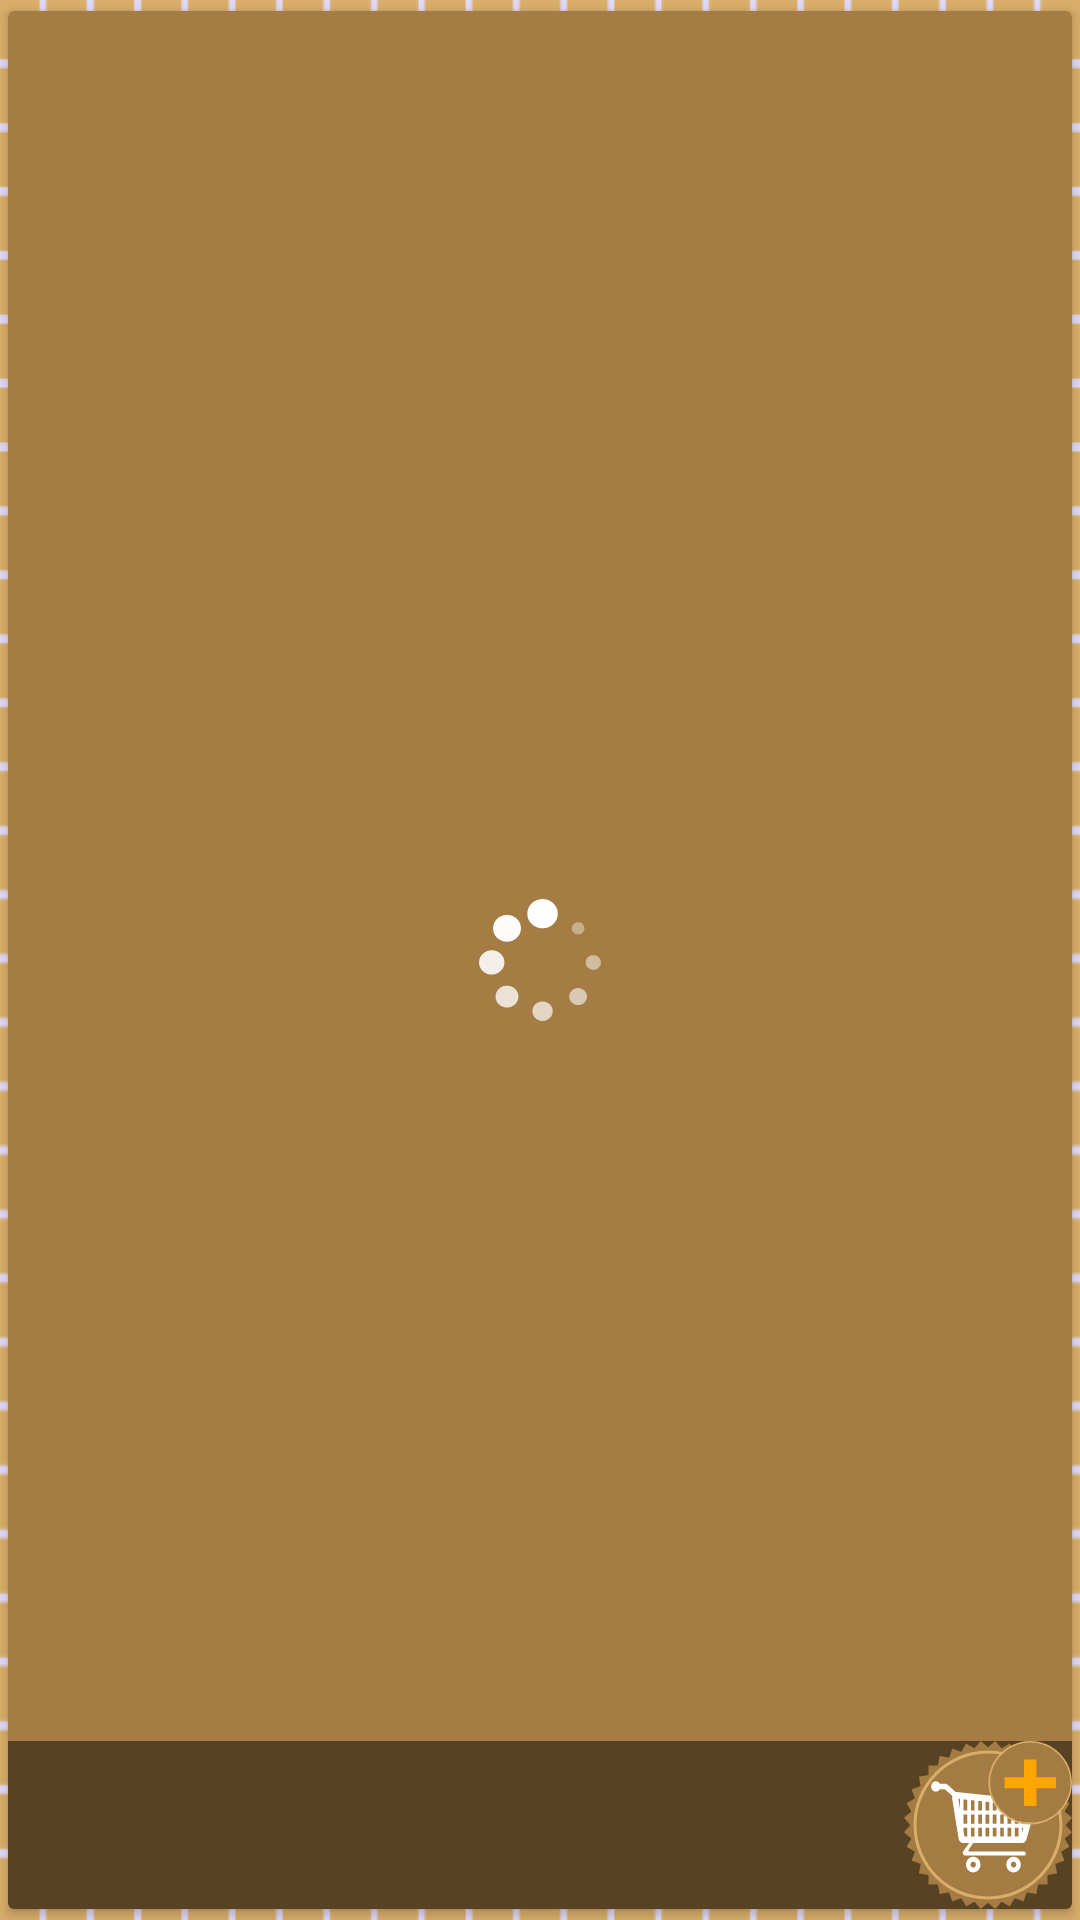

Named icons in this screenshot (1080x1920) and their centers, (x=x, y=y):
cart plus: (x=988, y=1825)
